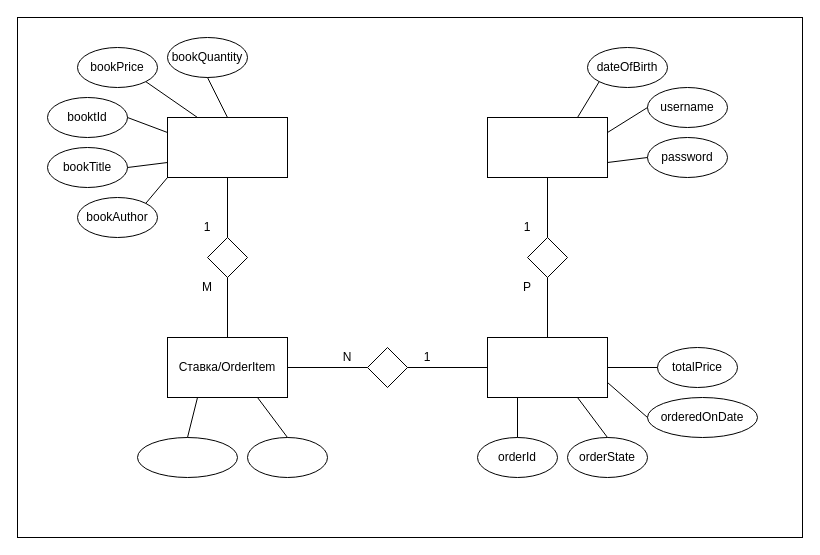
The diagram is 820 pixels wide and 555 high, and some of its shapes have lost their labels. Each missing label, with the centre of its shape:
"orderItemPrice" goes at point 187,457.
"quantity" goes at point 287,457.
"Книга/Book" goes at point 227,147.
"Корисник/User" goes at point 547,147.
"Нарачка/Order" goes at point 547,367.
